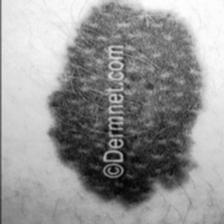Potentially Malignant Skin Tumors: (130, 0, 206, 202), (64, 14, 100, 185)
